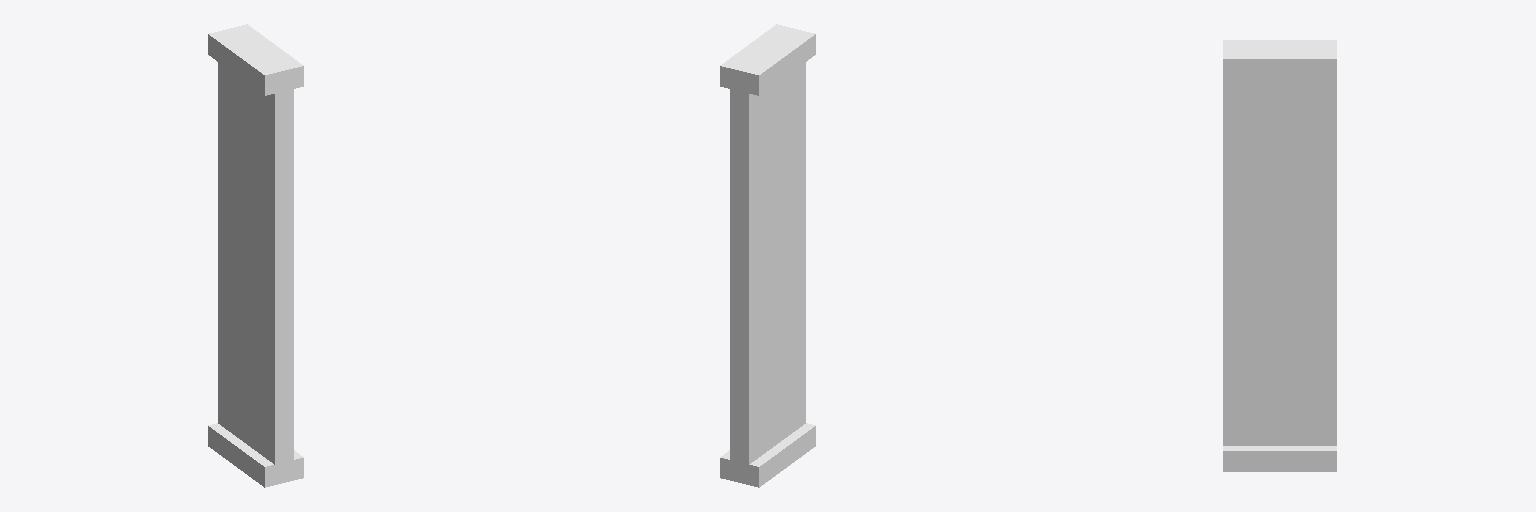
File: wall_tall.obj
3 views of the same model, side by side, from view 1: azimuth 30°, elevation 25°; view 2: azimuth 150°, elevation 25°; view 3: azimuth 270°, elevation 25° (orthographic).
Visible parts, largest first — view 1: object 1; view 2: object 1; view 3: object 1.
Part boxes in pixels (x1,y1,x2,y2): object 1: (208, 24, 303, 487); object 1: (720, 24, 815, 487); object 1: (1223, 40, 1336, 471).
Bounding box in the file's own units: 0.4 × 4 × 1.